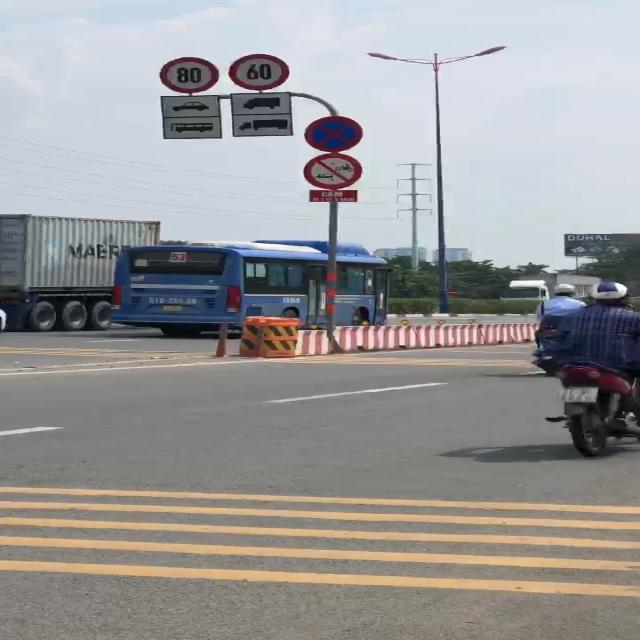Bien bao cam dung xe va do xe: (302, 113, 369, 152)
Bien bao toc do toi da cho phep: (225, 50, 298, 95), (156, 54, 222, 95)
